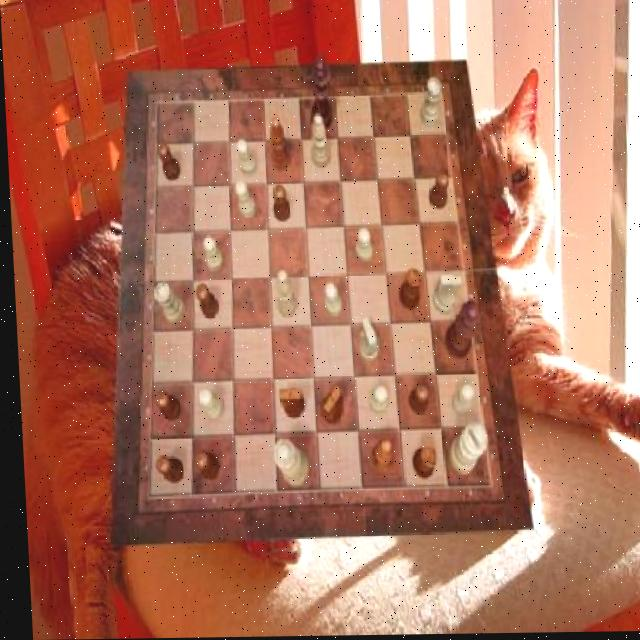bishop: (267, 118, 289, 173), (364, 440, 389, 475)
black-bishop: (305, 56, 332, 134)
black-king: (315, 387, 339, 426), (275, 389, 300, 420)
black-knight: (154, 143, 178, 181), (191, 285, 215, 320), (150, 392, 177, 423), (151, 457, 180, 485), (426, 173, 447, 210), (190, 452, 215, 481), (270, 186, 289, 222), (403, 384, 425, 415)
black-pawn: (440, 302, 480, 361)
black-queen: (395, 269, 421, 311), (406, 444, 432, 479)
black-rook: (307, 115, 329, 169), (271, 271, 293, 317)
white-bishop: (442, 424, 484, 477)
white-king: (429, 276, 461, 317), (354, 317, 376, 363)
white-knight: (232, 182, 254, 220), (195, 388, 220, 421), (447, 385, 471, 418), (233, 140, 255, 176), (200, 236, 220, 271), (320, 284, 339, 318), (352, 230, 371, 264), (364, 386, 385, 414)
white-pawn: (267, 440, 305, 488)
white-queen: (151, 283, 182, 325), (416, 79, 441, 129)
